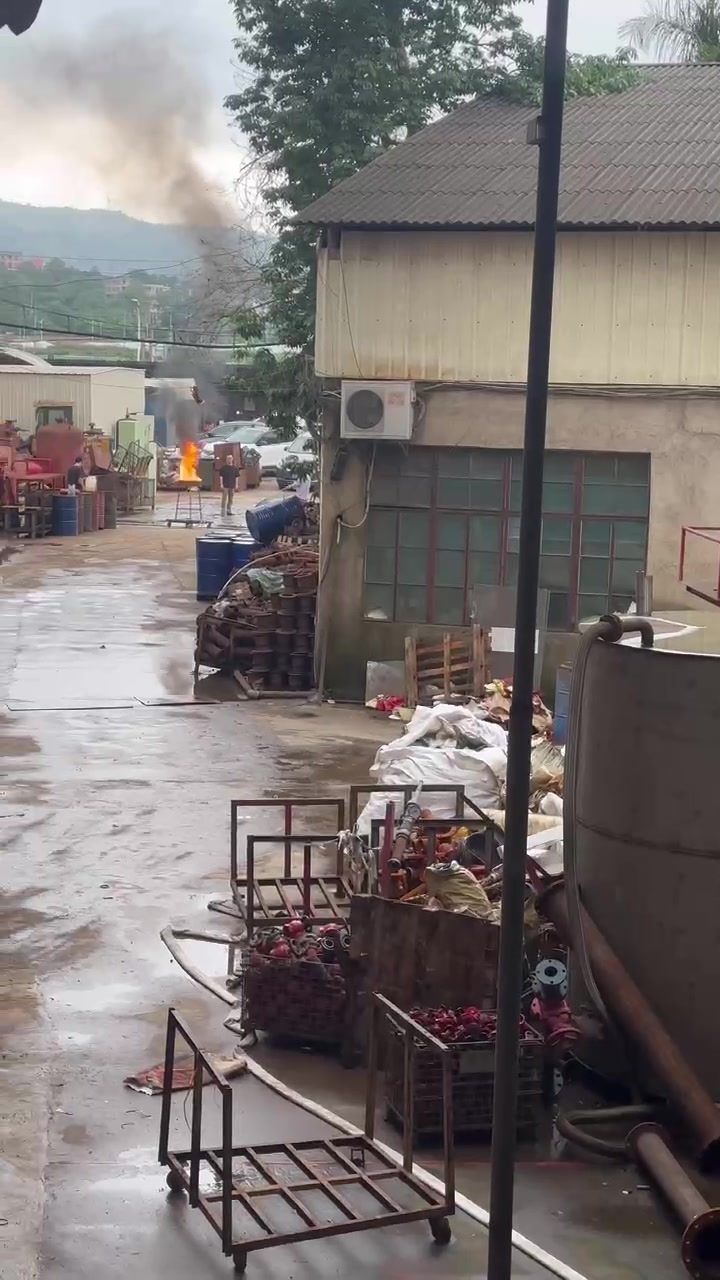fire: (179, 441, 201, 480)
